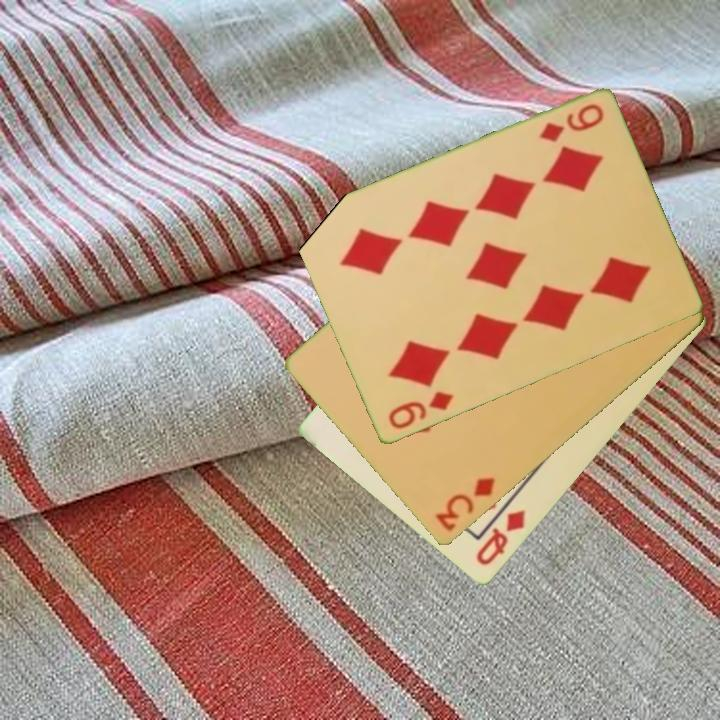3d: (432, 474, 498, 535)
9d: (535, 100, 607, 146), (384, 388, 457, 433)
Qd: (472, 506, 529, 569)
